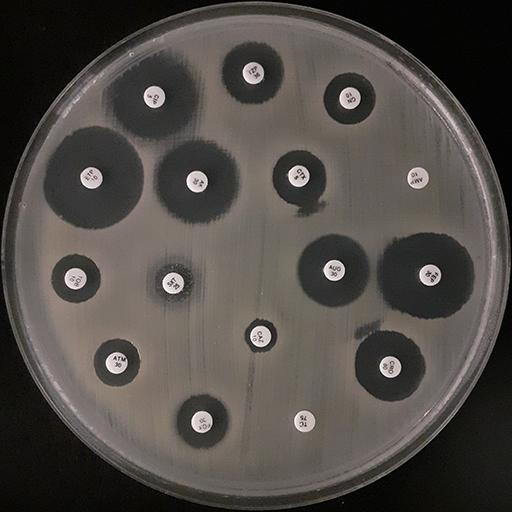disc: (103, 349, 130, 376), (337, 84, 363, 111), (184, 168, 210, 195), (78, 164, 104, 191), (62, 265, 88, 292), (189, 408, 215, 435), (240, 60, 266, 86), (141, 84, 167, 110), (285, 163, 311, 189), (417, 262, 443, 288), (321, 257, 347, 283), (160, 270, 186, 296), (248, 323, 274, 349), (377, 354, 403, 380), (405, 165, 431, 190), (292, 408, 317, 434)
